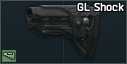FAB Defense GL-SHOCK buttstock: (0, 0, 127, 64)
